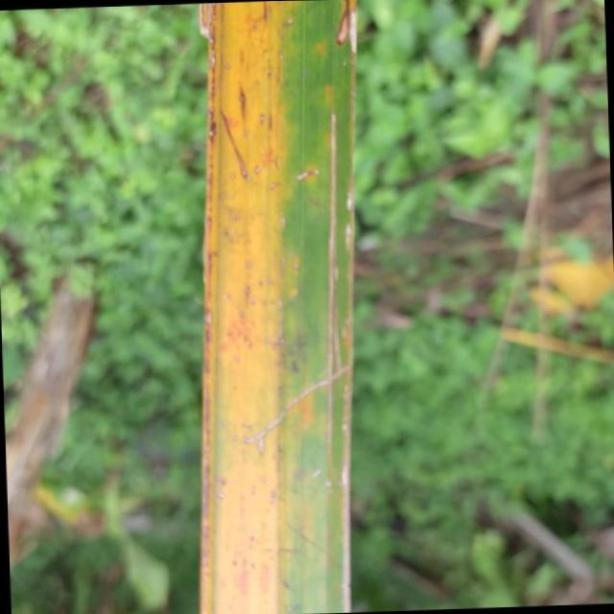Megnesium: (197, 0, 358, 614)
